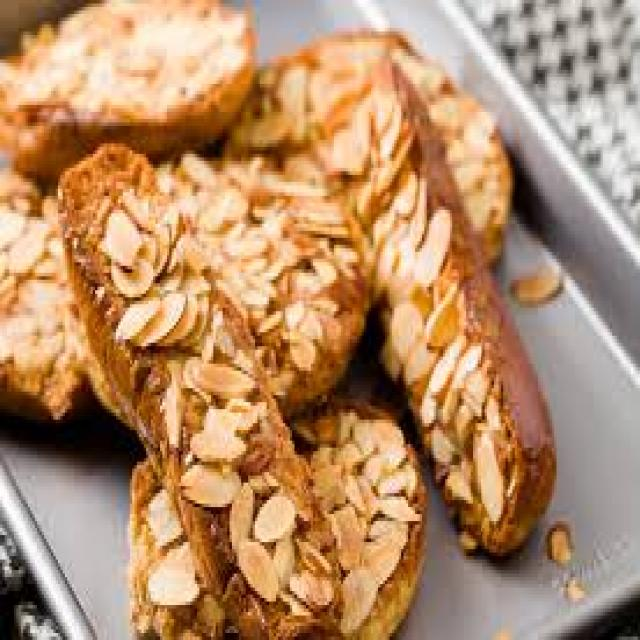organic waste: (56, 136, 341, 636), (343, 60, 552, 552), (130, 388, 424, 637), (258, 25, 512, 284), (155, 140, 369, 409), (0, 0, 255, 178), (0, 164, 95, 420), (510, 259, 561, 301), (545, 521, 570, 567), (561, 574, 587, 605)
